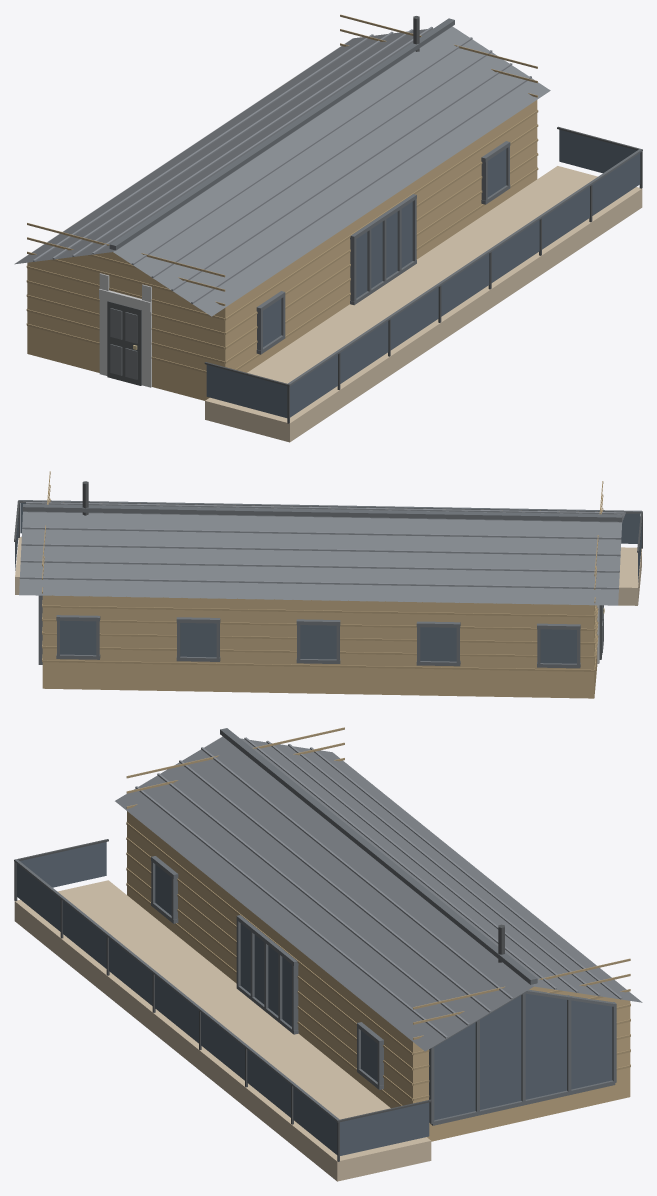
3 views of the same model, one above another, from view 1: azimuth 30°, elevation 25°; view 2: azimuth 150°, elevation 25°; view 3: azimuth 270°, elevation 25° (orthographic). The views are drawn at different scales.
Parts seen in each view (by area): view 1: slate, door_wood, larch, slate_lt, slate_dk, door_wood_p, window_glass_008, stone_band, window_glass_009, pipe, window_glass_003, window_glass_002 (+13 smaller); view 2: slate, door_wood, slate_dk, slate_lt, door_wood_p, larch, window_glass_021, window_glass_020, window_glass_019, window_glass_018, window_glass_017, window_glass_001 (+1 smaller); view 3: slate, larch, door_wood, window_glass_016, slate_dk, slate_lt, door_wood_p, window_glass_009, window_glass_008, pipe, window_glass_002, window_glass_001 (+10 smaller).
Boxes of the visible parts, <box> form: slate: <box>14,26,550,316</box>; door_wood: <box>27,100,537,400</box>; larch: <box>205,166,642,442</box>; slate_lt: <box>33,26,531,303</box>; slate_dk: <box>109,18,642,385</box>; door_wood_p: <box>26,14,538,373</box>; window_glass_008: <box>206,365,287,417</box>; stone_band: <box>99,273,151,387</box>; window_glass_009: <box>559,129,636,173</box>; pipe: <box>204,16,642,423</box>; window_glass_003: <box>390,287,438,350</box>; window_glass_002: <box>340,321,388,383</box>; slate: <box>19,502,625,605</box>; door_wood: <box>42,502,597,698</box>; slate_dk: <box>19,500,641,668</box>; slate_lt: <box>19,502,625,589</box>; door_wood_p: <box>42,471,603,671</box>; larch: <box>15,537,641,605</box>; window_glass_021: <box>540,629,576,663</box>; window_glass_020: <box>420,627,456,661</box>; window_glass_019: <box>300,625,336,659</box>; window_glass_018: <box>180,623,216,657</box>; window_glass_017: <box>60,620,96,655</box>; window_glass_001: <box>621,513,640,543</box>; slate: <box>115,736,642,1051</box>; larch: <box>14,880,431,1181</box>; door_wood: <box>127,811,630,1141</box>; window_glass_016: <box>434,993,612,1120</box>; slate_dk: <box>14,728,616,1125</box>; slate_lt: <box>135,737,622,1038</box>; door_wood_p: <box>126,727,630,1106</box>; window_glass_009: <box>340,1102,429,1155</box>; window_glass_008: <box>20,842,106,887</box>; pipe: <box>14,839,504,1161</box>; window_glass_002: <box>62,901,106,968</box>; window_glass_001: <box>16,864,60,931</box>.
Size of the model in its own units: 17.43 by 4.47 by 14.23.
